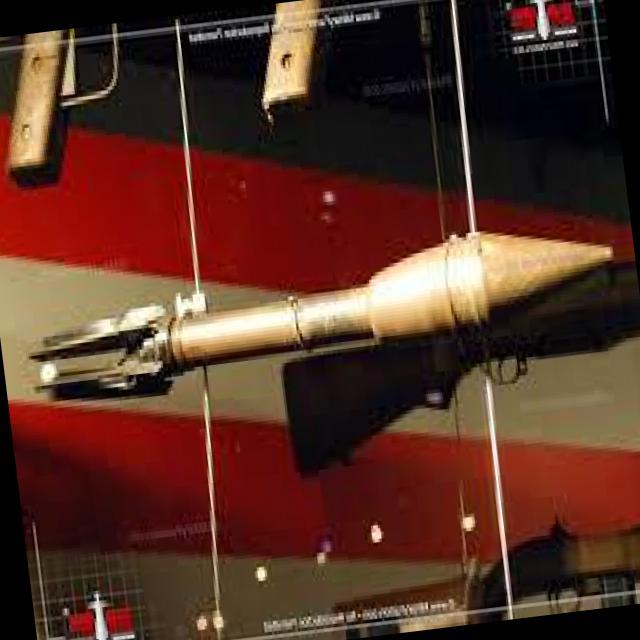rocket: (19, 224, 621, 402)
